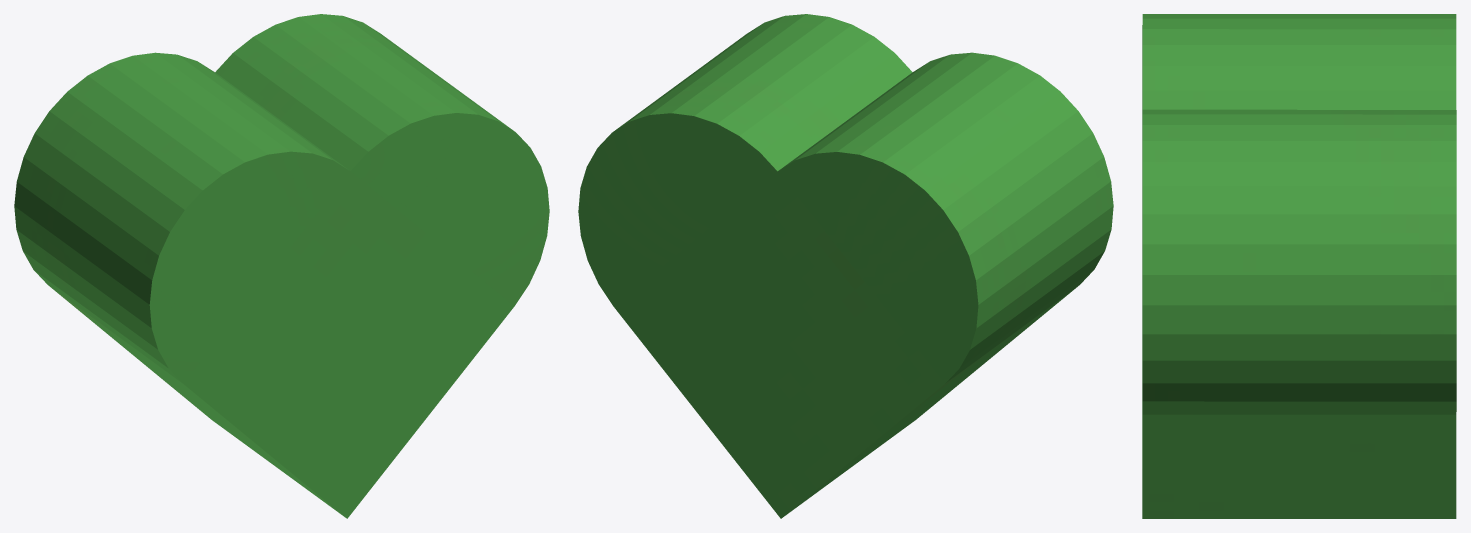
Rendered from 3_goal.glb.
3 views of the same model, side by side, from view 1: azimuth 30°, elevation 25°; view 2: azimuth 150°, elevation 25°; view 3: azimuth 270°, elevation 25° (orthographic). The views are drawn at different scales.
Parts seen in each view (by area): view 1: Cylinder.001; view 2: Cylinder.001; view 3: Cylinder.001.
Part boxes in pixels (x1=…): Cylinder.001: x1=14, y1=14, x2=549, y2=518; Cylinder.001: x1=578, y1=14, x2=1113, y2=518; Cylinder.001: x1=1142, y1=14, x2=1456, y2=518.
Size of the model in its own units: 4.13 by 3.78 by 2.42.
Materials: 1 (1 with a texture image).
